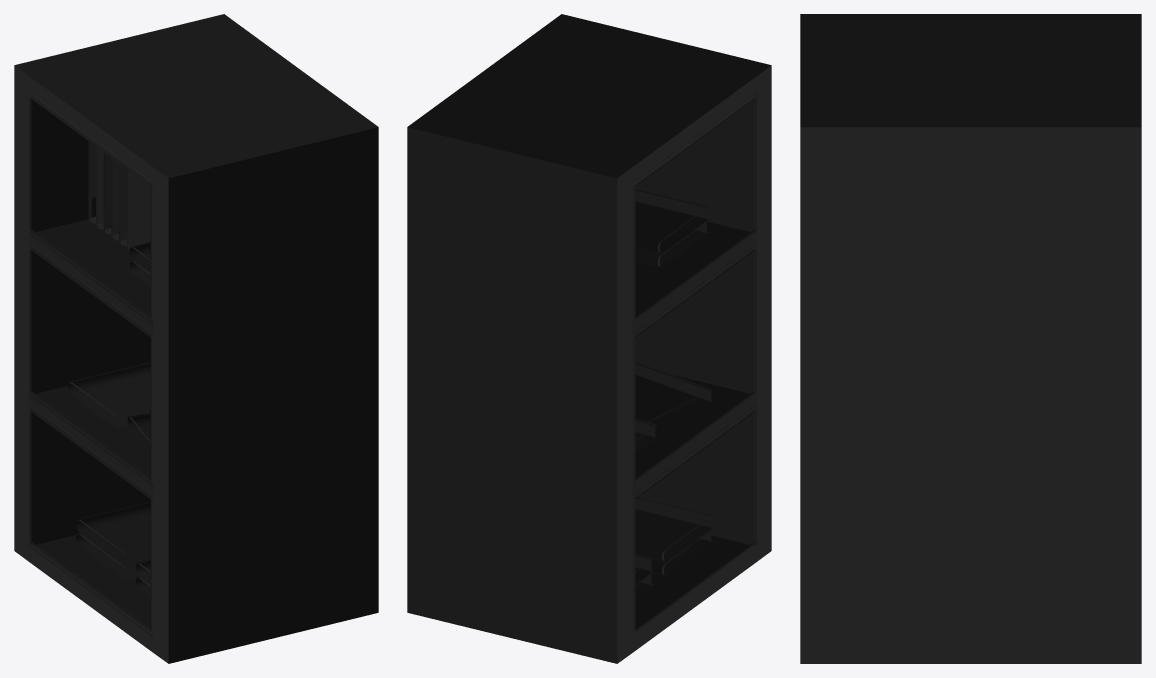
The model's file is wardrobemini.obj.
3 renders of one model, left to right at view 1: azimuth 30°, elevation 25°; view 2: azimuth 150°, elevation 25°; view 3: azimuth 270°, elevation 25°, orthographic. The views are drawn at different scales.
Parts seen in each view (by area): view 1: obj6, obj3, obj2, obj1, obj4, obj5; view 2: obj6, obj2, obj4, obj5; view 3: obj6.
Part boxes in pixels (bbox=[...]): obj6: bbox=[14, 14, 378, 663]; obj3: bbox=[88, 141, 150, 250]; obj2: bbox=[76, 501, 150, 598]; obj1: bbox=[67, 362, 150, 428]; obj4: bbox=[129, 242, 150, 286]; obj5: bbox=[127, 413, 150, 454]; obj6: bbox=[407, 14, 771, 663]; obj2: bbox=[635, 497, 712, 598]; obj4: bbox=[635, 188, 708, 267]; obj5: bbox=[635, 361, 712, 430]; obj6: bbox=[800, 14, 1141, 663].
Bounding box in the file's own units: 0.8874 × 1.95 × 1.13.
